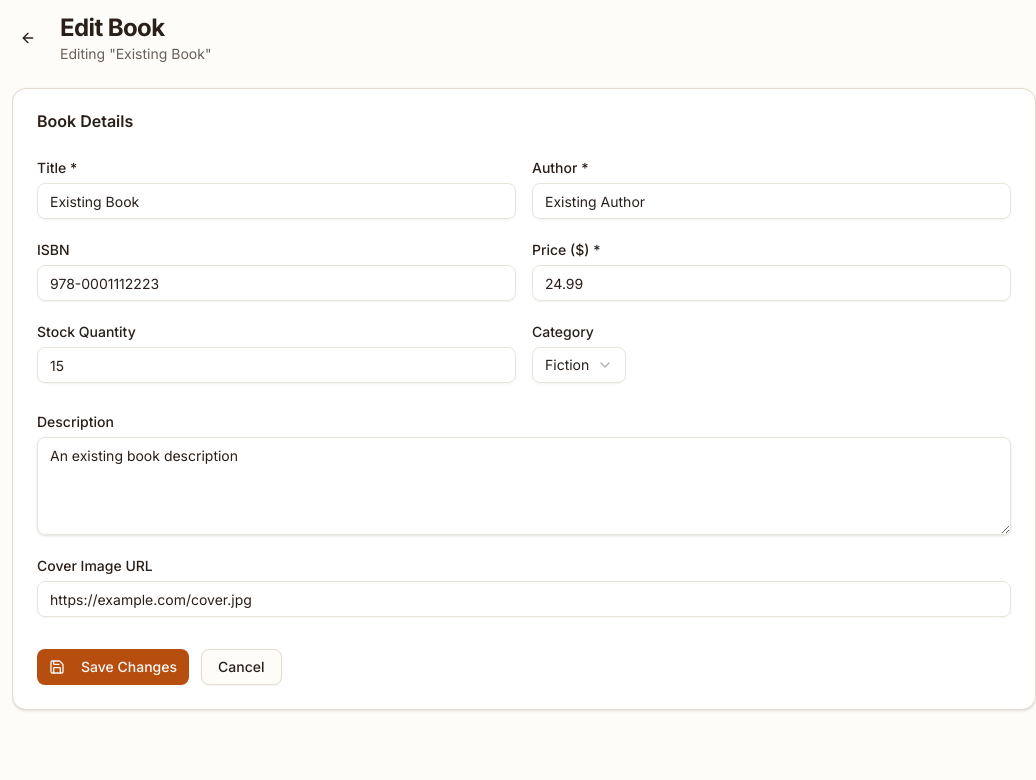
Scenario: EditBookPage › should show "Saving..." while submitting
The image size is (1036, 780).
expect the field labelled "Title *" holds "Existing Book": met, box [37, 183, 516, 219]
Click the button "Save Changes" at x=113, y=667, box [37, 649, 189, 685]
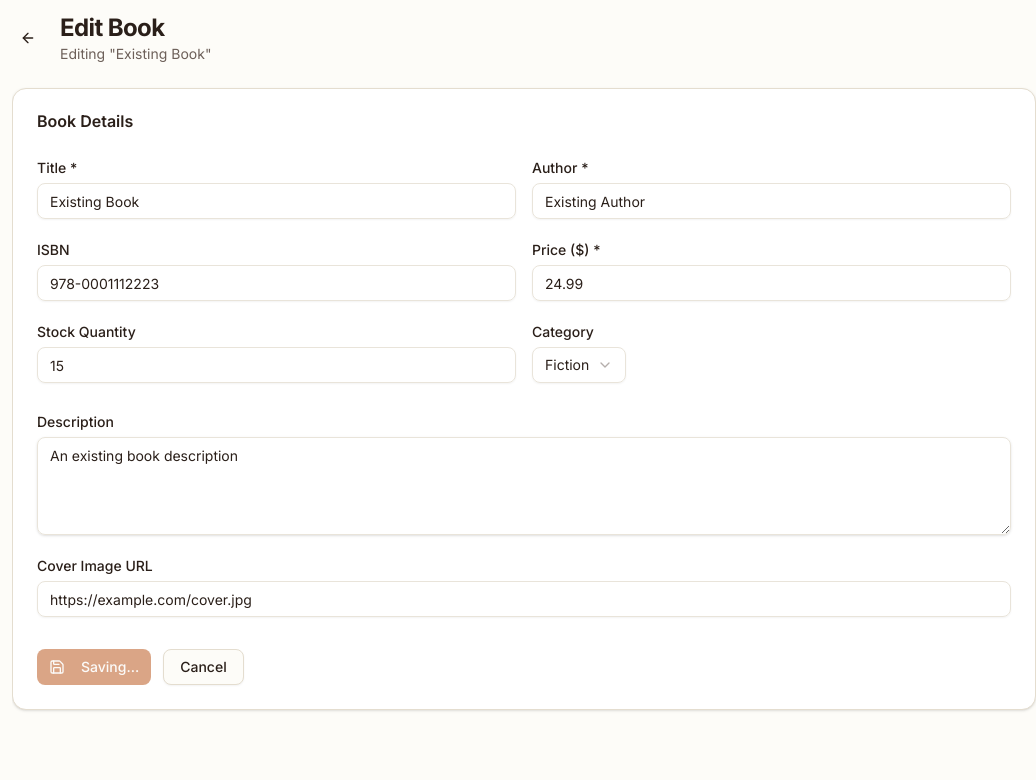
expect the button "Saving..." is shown: met, box [37, 649, 151, 685]
